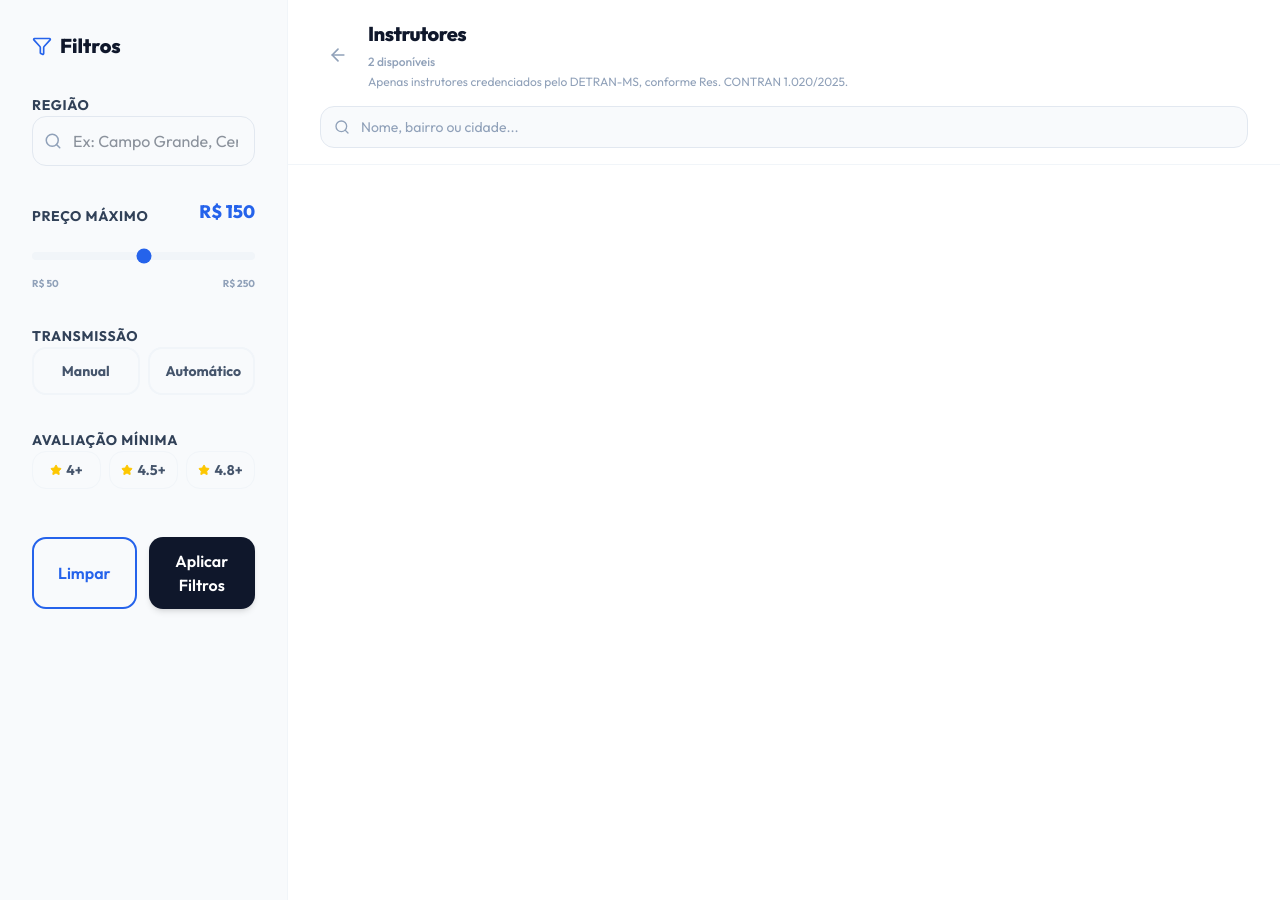
Test: Navigator Integration Flows › Instructor Marketplace › filters instructors by name
Type "Instrutor A" into the field with placeholder "Nome, bairro ou cidade..." at point(784, 127), box [320,106,1248,148]
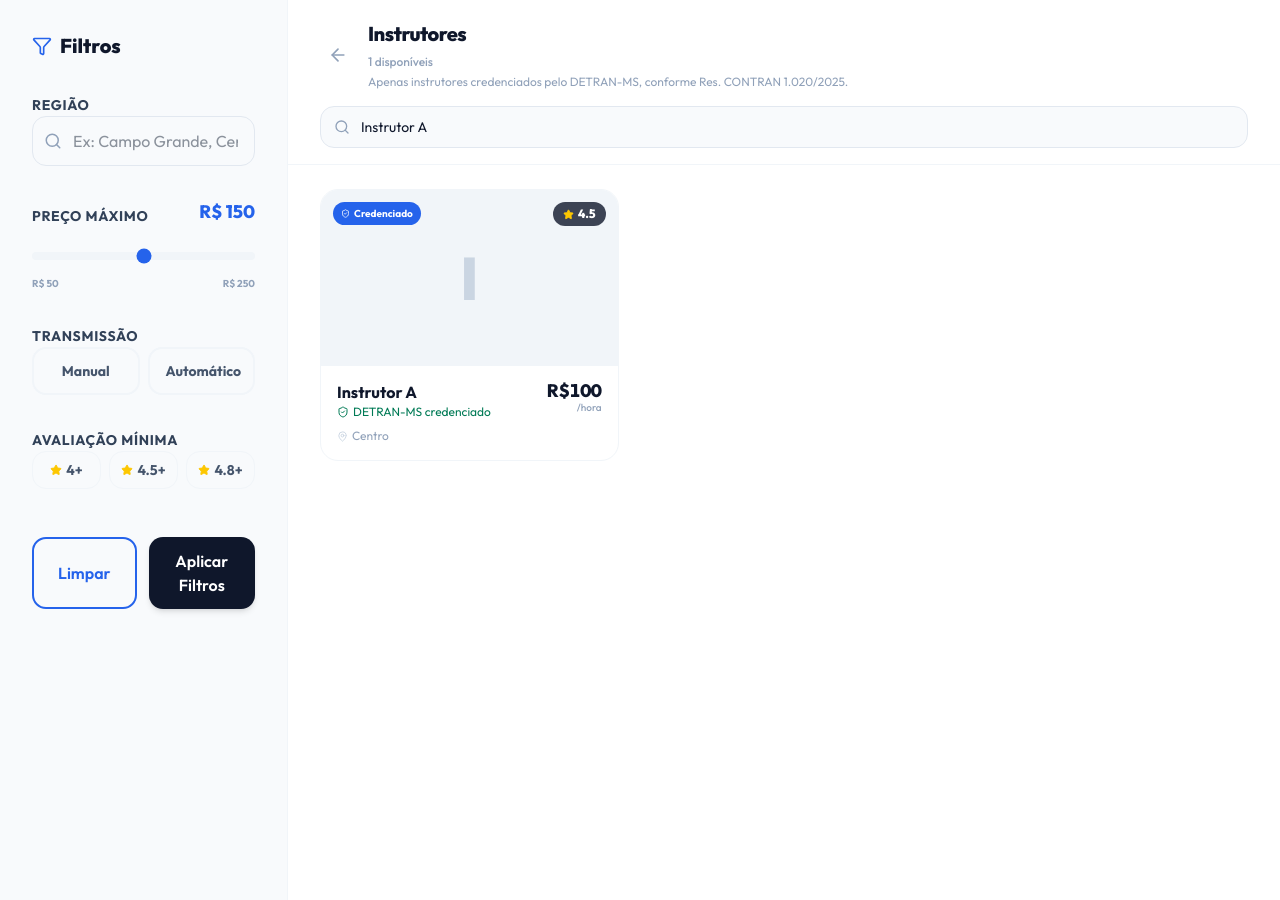
Now the heading "Instrutor A" is shown, box [337,382,417,402]
